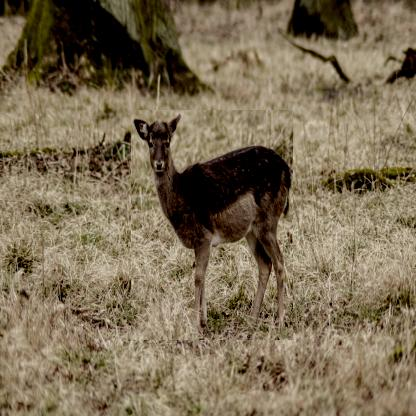Deer: (131, 110, 293, 340)
